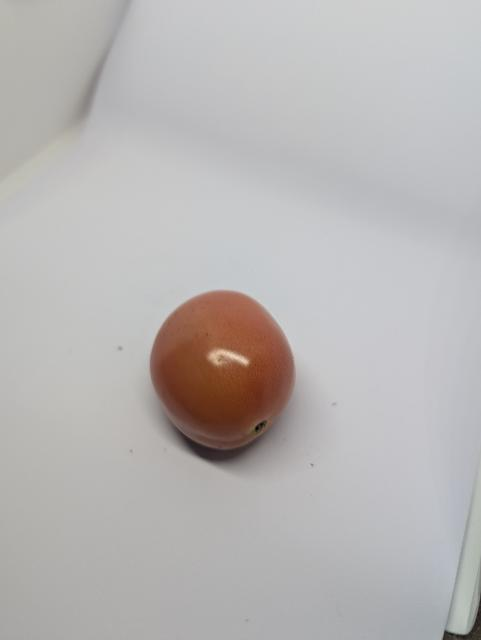red: (144, 288, 300, 460)
